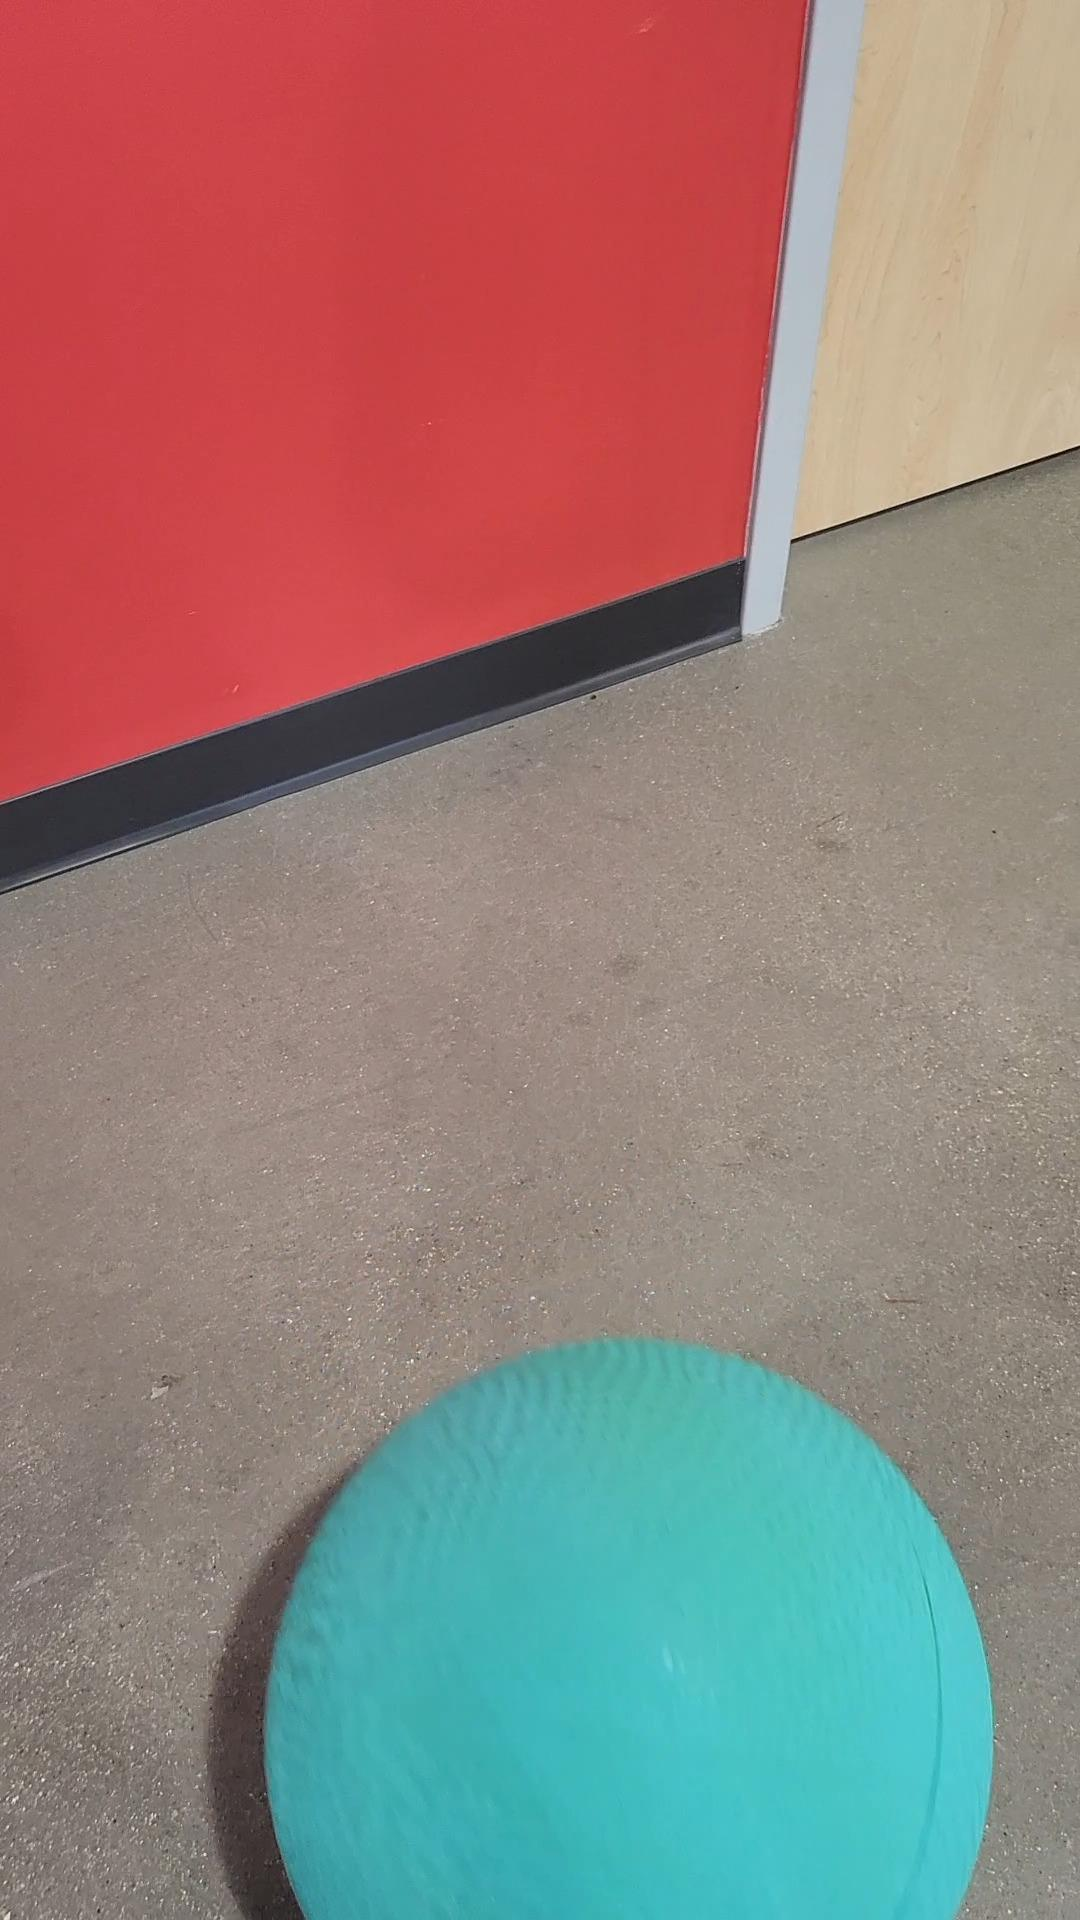algae: (272, 1341, 986, 1920)
